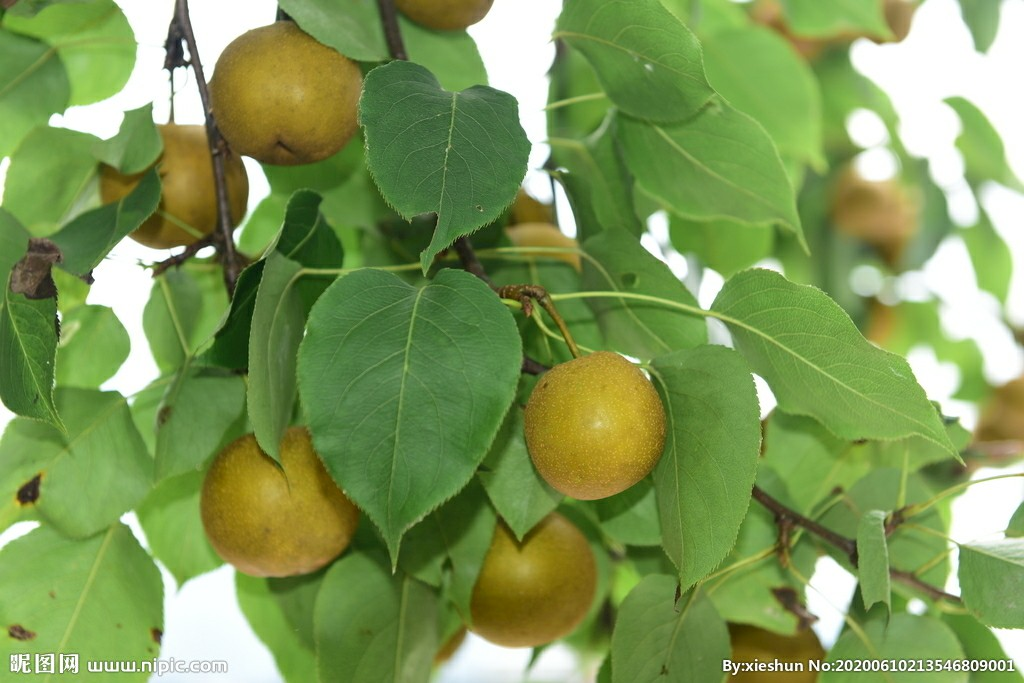pear: (200, 427, 357, 580), (213, 18, 365, 166), (526, 352, 665, 501), (464, 506, 598, 647), (102, 124, 252, 248), (385, 1, 502, 34)
